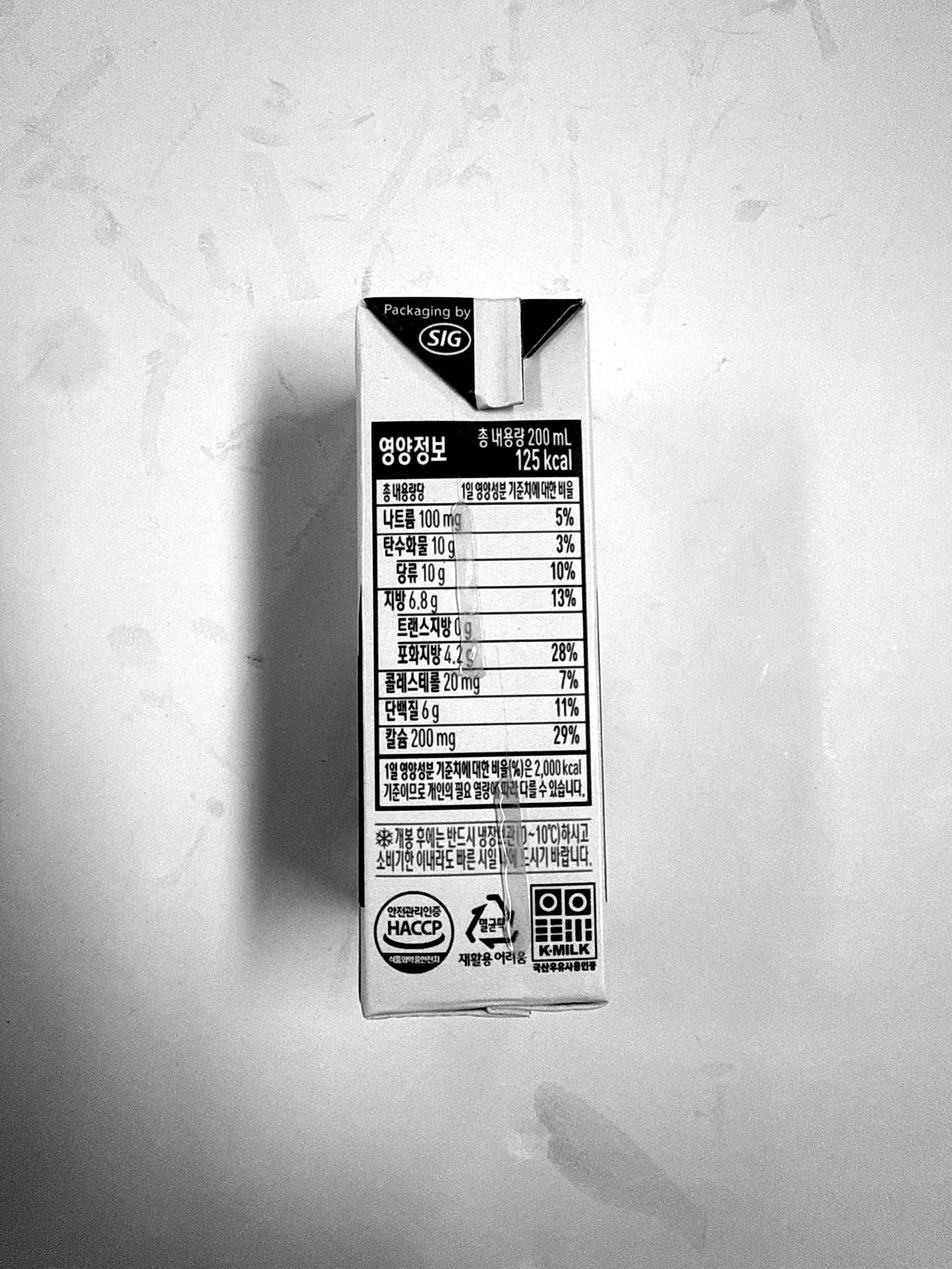milk_green: (364, 297, 608, 1017)
